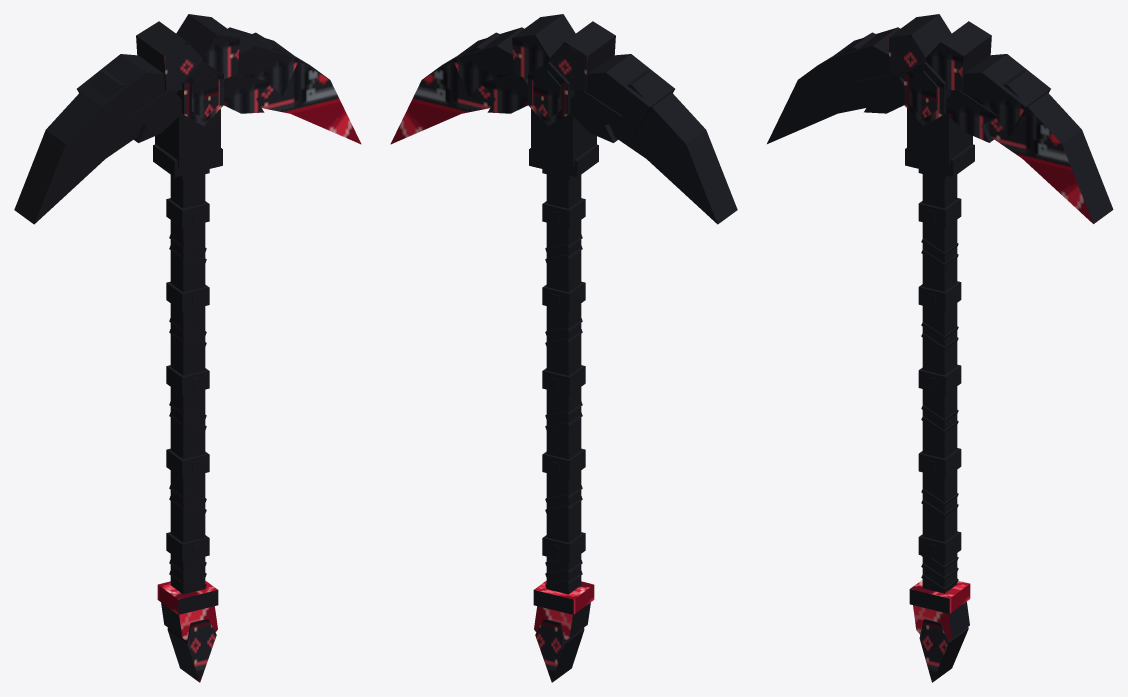
File: endgame_pickaxe_smooth.obj
The picture shows the model from 3 angles, left to right: view 1: azimuth 30°, elevation 25°; view 2: azimuth 150°, elevation 25°; view 3: azimuth 330°, elevation 25°; orthographic projection.
Visible parts, largest first — view 1: endgame_pickaxe; view 2: endgame_pickaxe; view 3: endgame_pickaxe.
Part boxes in pixels (x1,y1,x2,y2): endgame_pickaxe: (14,14,361,682); endgame_pickaxe: (390,14,737,682); endgame_pickaxe: (767,14,1113,682).
Size of the model in its own units: 0.975 by 1.84 by 0.1769.
